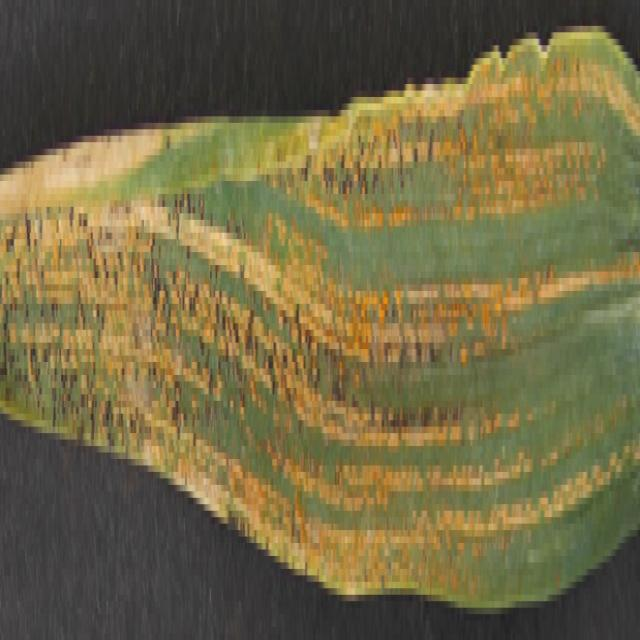leaf rust: (1, 26, 639, 582)
